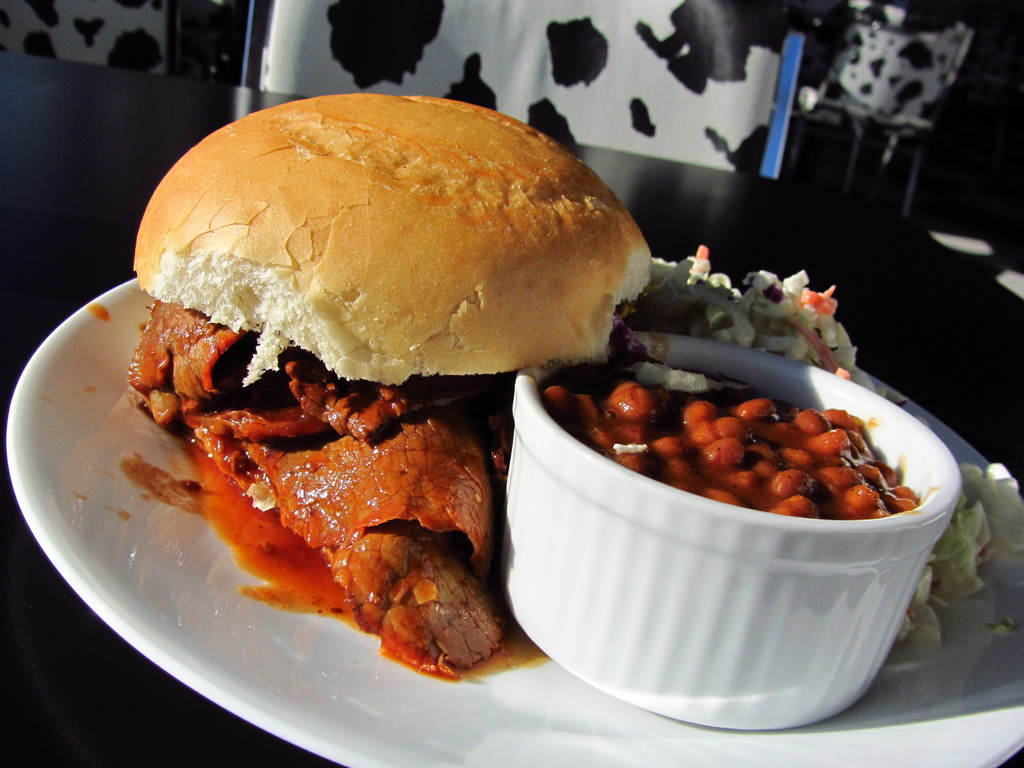Hamburger: (129, 99, 657, 673)
